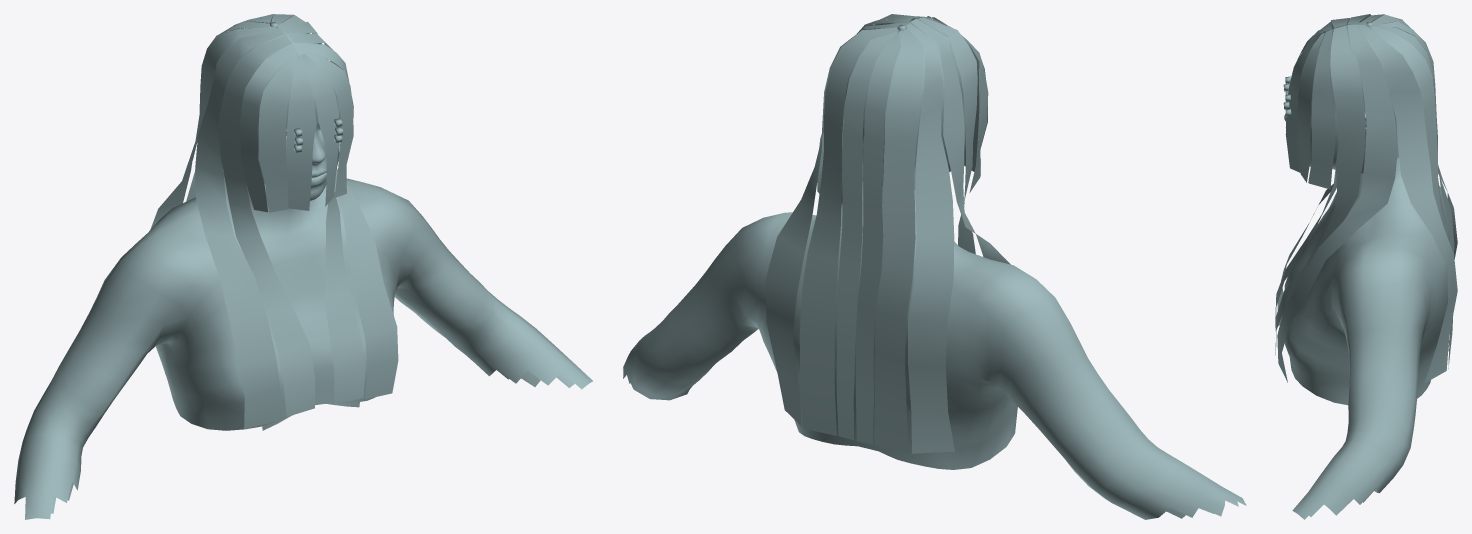
File: medical_speech_face.glb
3 renders of one model, left to right at view 1: azimuth 30°, elevation 25°; view 2: azimuth 150°, elevation 25°; view 3: azimuth 270°, elevation 25°, orthographic. The views are drawn at different scales.
Visible parts, largest first — view 1: Human; view 2: Human; view 3: Human.
Boxes of the visible parts, <box> form: Human: <box>14,14,592,519</box>; Human: <box>623,14,1246,519</box>; Human: <box>1275,14,1457,519</box>.
Bounding box in the file's own units: 0.8674 × 0.5849 × 0.2622.
